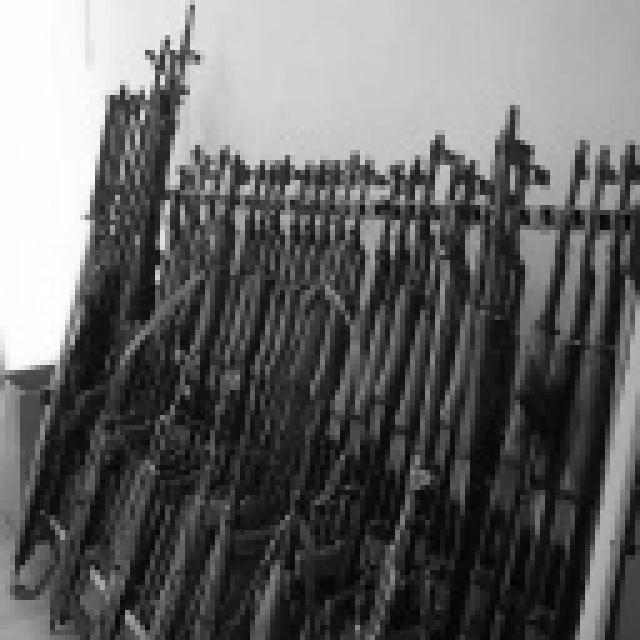Rifle: (0, 0, 215, 615), (67, 100, 243, 638), (428, 98, 602, 640), (36, 115, 213, 640), (150, 100, 320, 640), (225, 35, 375, 640), (480, 79, 620, 640), (130, 94, 267, 640), (363, 136, 490, 640), (422, 110, 539, 640), (280, 135, 400, 640), (565, 55, 640, 635), (536, 124, 614, 640)
